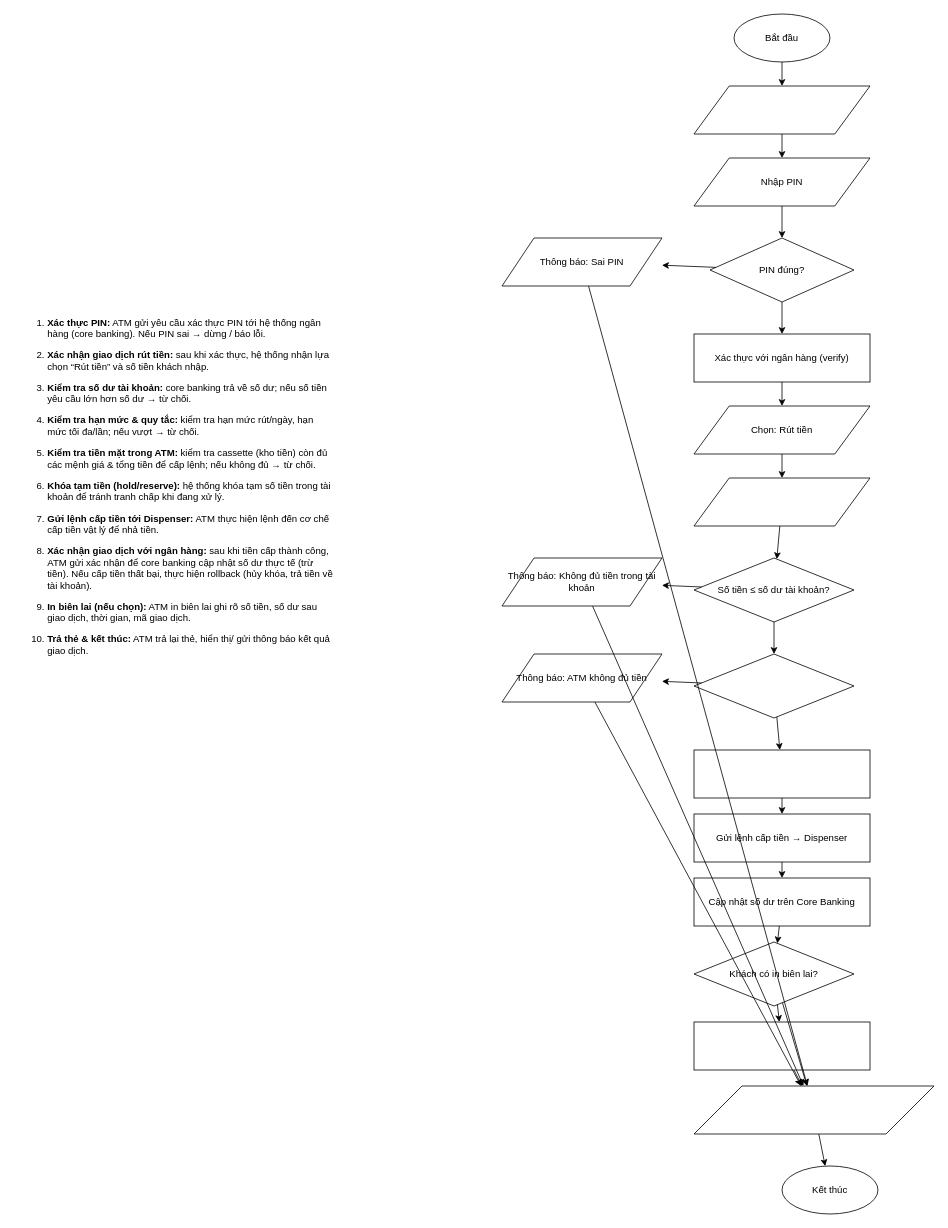
The diagram is 948 pixels wide and 1228 high, and some of its shapes have lost their labels. The shapes that lost their labels are listed below. From the top down, each one's centre as x and y in pixels, then its label:
At [781,109]: "Chèn thẻ (Insert card)".
At [781,501]: "Nhập số tiền muốn rút".
At [773,685]: "ATM có đủ tiền mặt?".
At [781,773]: "Khóa tạm số tiền (reserve)".
At [781,1045]: "In biên lai (nếu chọn)".
At [813,1109]: "Trả thẻ, hiển thị kết quả (màn hình/biên lai)".
